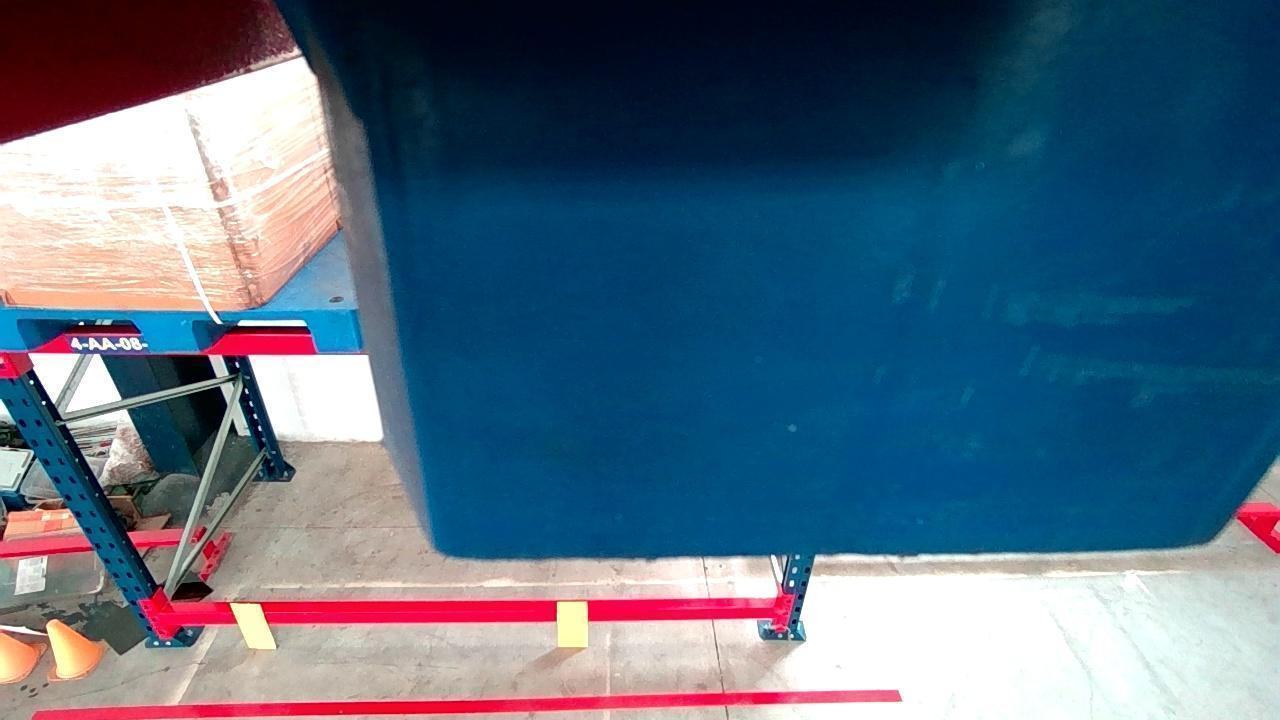red_line: (30, 688, 905, 720)
